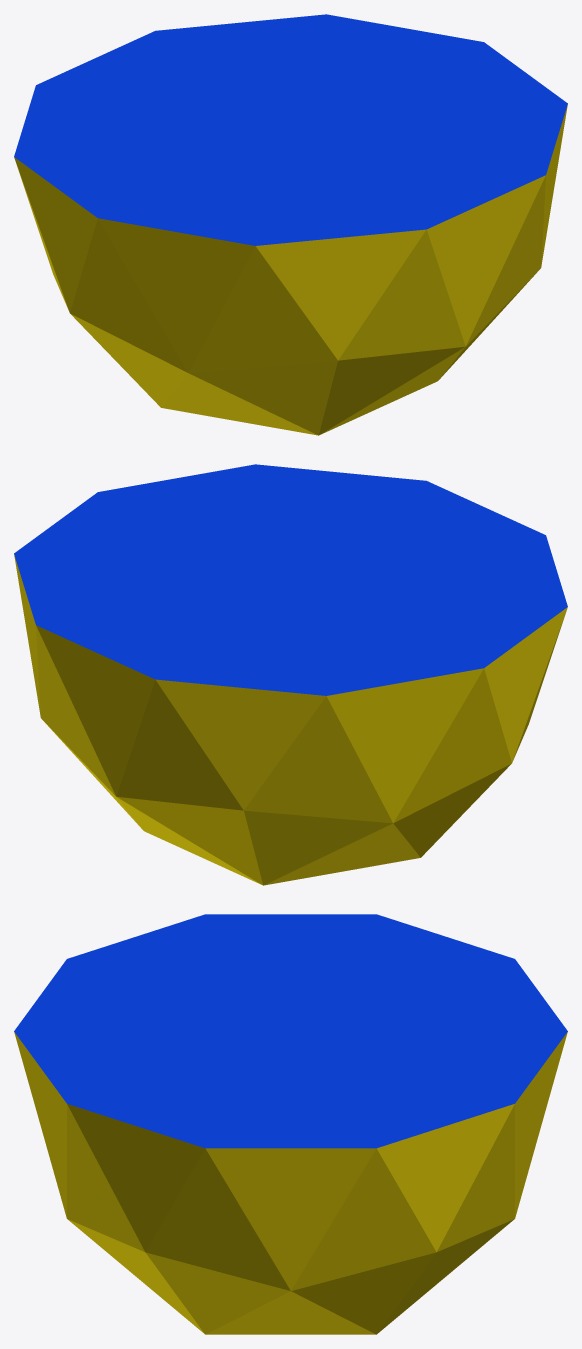
Rendered from DiamondTable.fbx.
3 views of the same model, one above another, from view 1: azimuth 30°, elevation 25°; view 2: azimuth 150°, elevation 25°; view 3: azimuth 270°, elevation 25° (orthographic). The views are drawn at different scales.
Parts seen in each view (by area): view 1: Diamond Table; view 2: Diamond Table; view 3: Diamond Table.
Part boxes in pixels (x1,y1,x2,y2): Diamond Table: (14, 14, 567, 435); Diamond Table: (14, 464, 567, 885); Diamond Table: (14, 914, 567, 1334).
Size of the model in its own units: 100 by 50 by 100.
